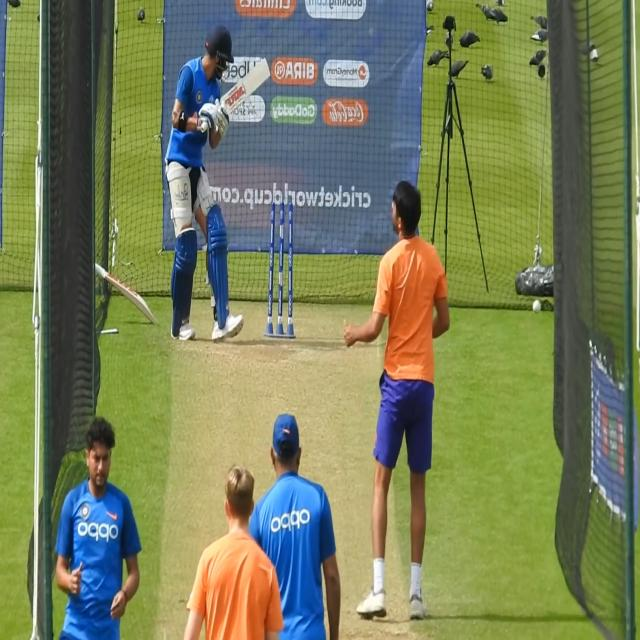ball: (531, 297, 542, 317)
stump: (266, 198, 296, 342)
